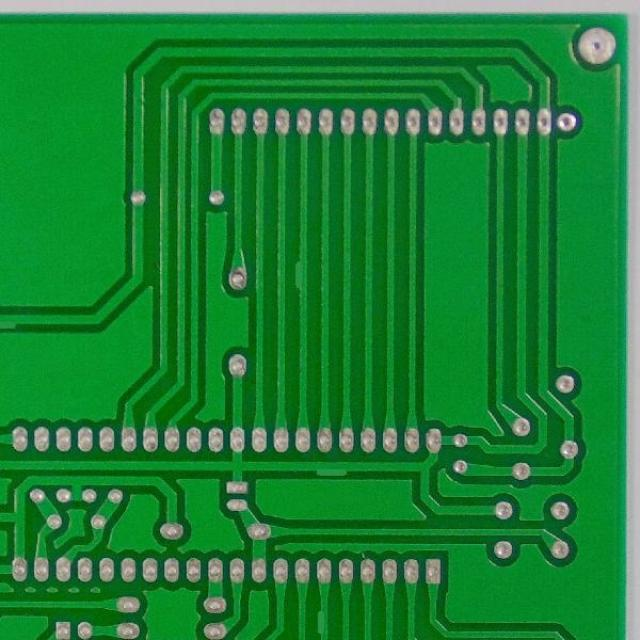Spur: (308, 460, 352, 479), (292, 252, 310, 298), (312, 605, 329, 639), (0, 308, 21, 332)
